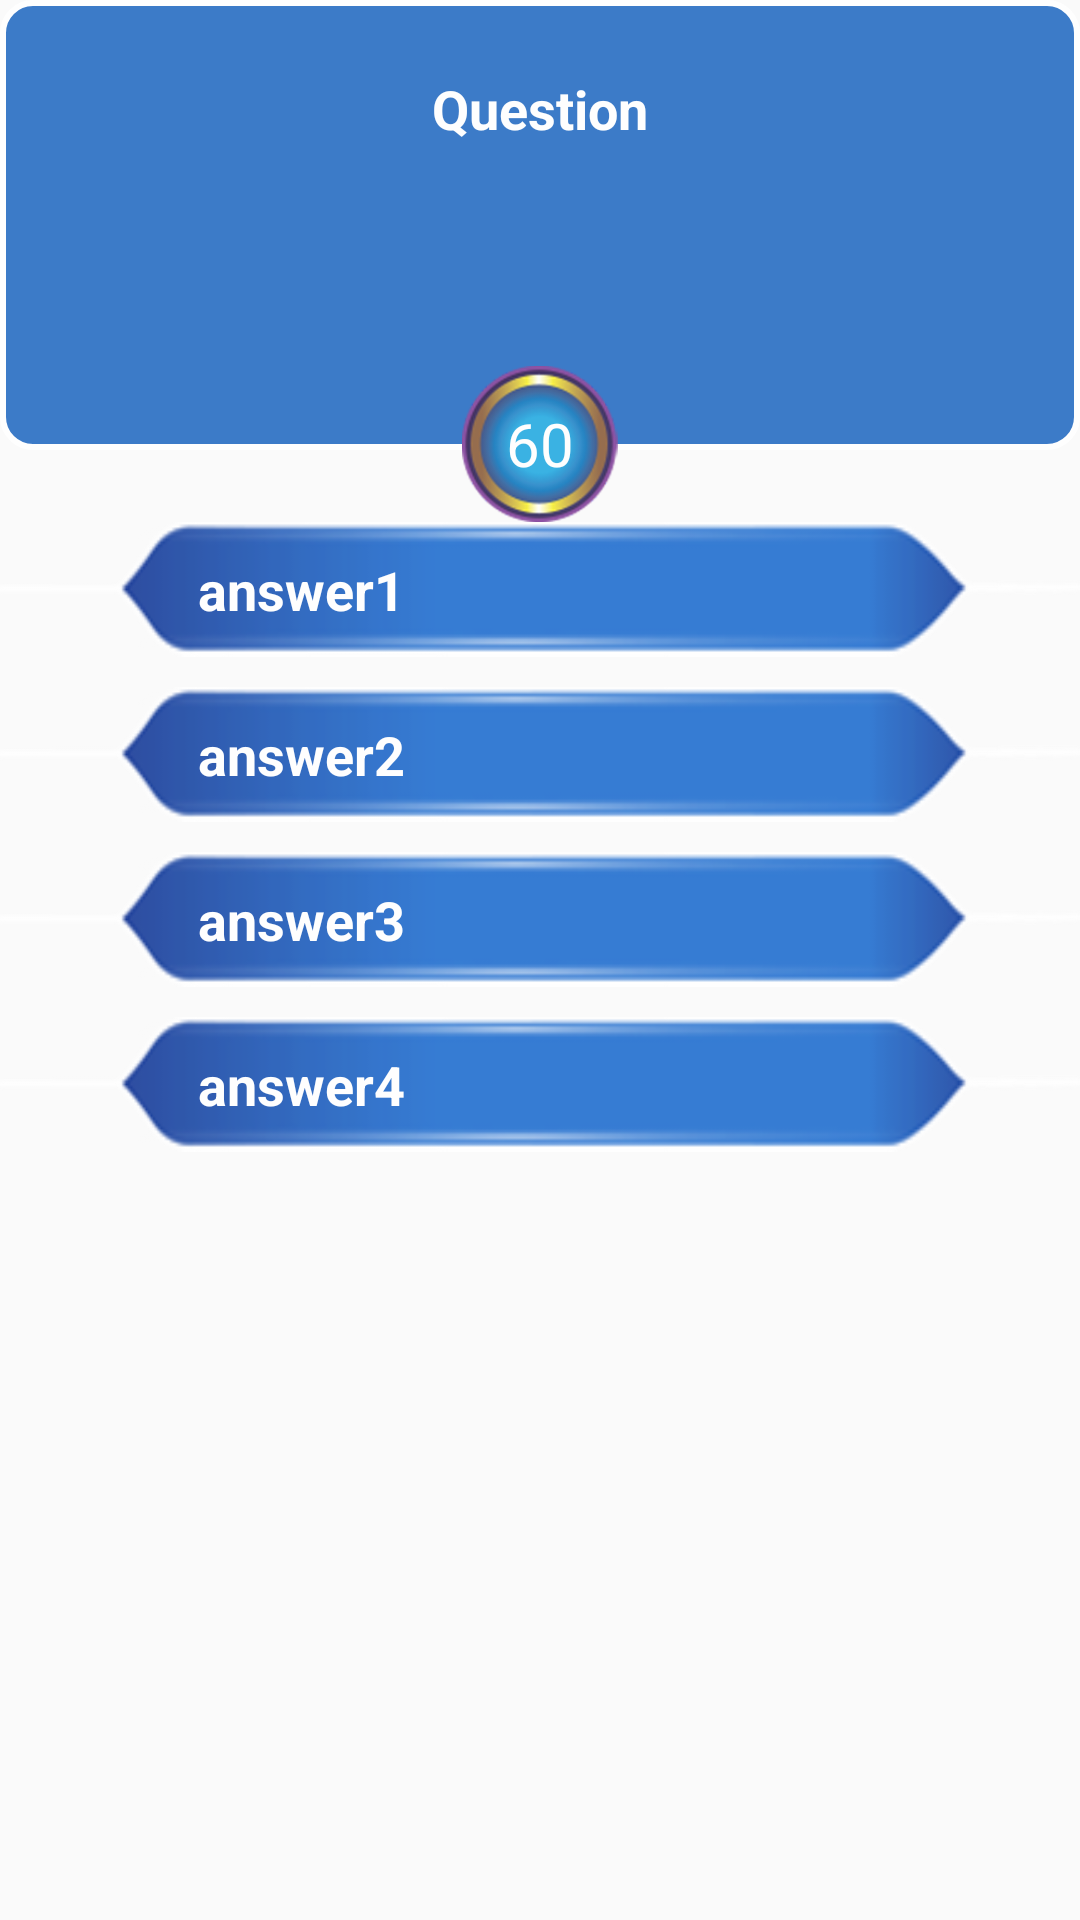

Point at icon controls on the screen. Image size 1080 × 1920, points as point (x, y).
time: point (540, 444)
